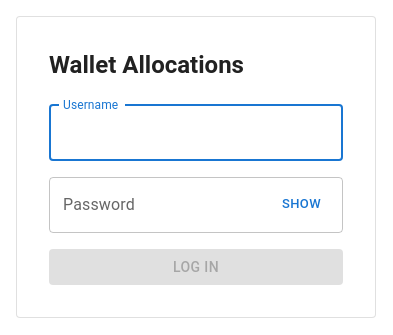
it: LoginPage › disables the submit button until both fields are filled
The width and height of the screenshot is (393, 335).
Check: the button "Log In" is disabled, box top-left (49, 249), bottom-right (343, 285)
Type "alice" into the field labelled "Username".
click(196, 133); type("alice")  # box top-left (49, 105), bottom-right (343, 161)
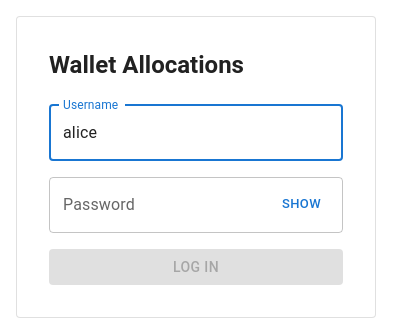
Check: the button "Log In" is disabled, box top-left (49, 249), bottom-right (343, 285)
Type "secret" into the password field labelled "Password".
click(158, 205); type("secret")  # box top-left (49, 177), bottom-right (266, 233)
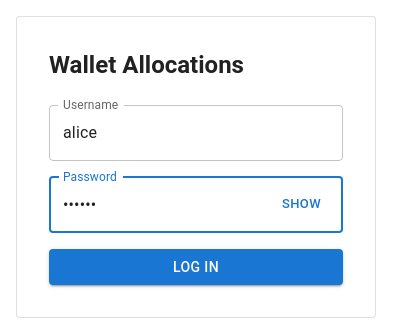
Check: the button "Log In" is enabled, box top-left (49, 249), bottom-right (343, 285)
